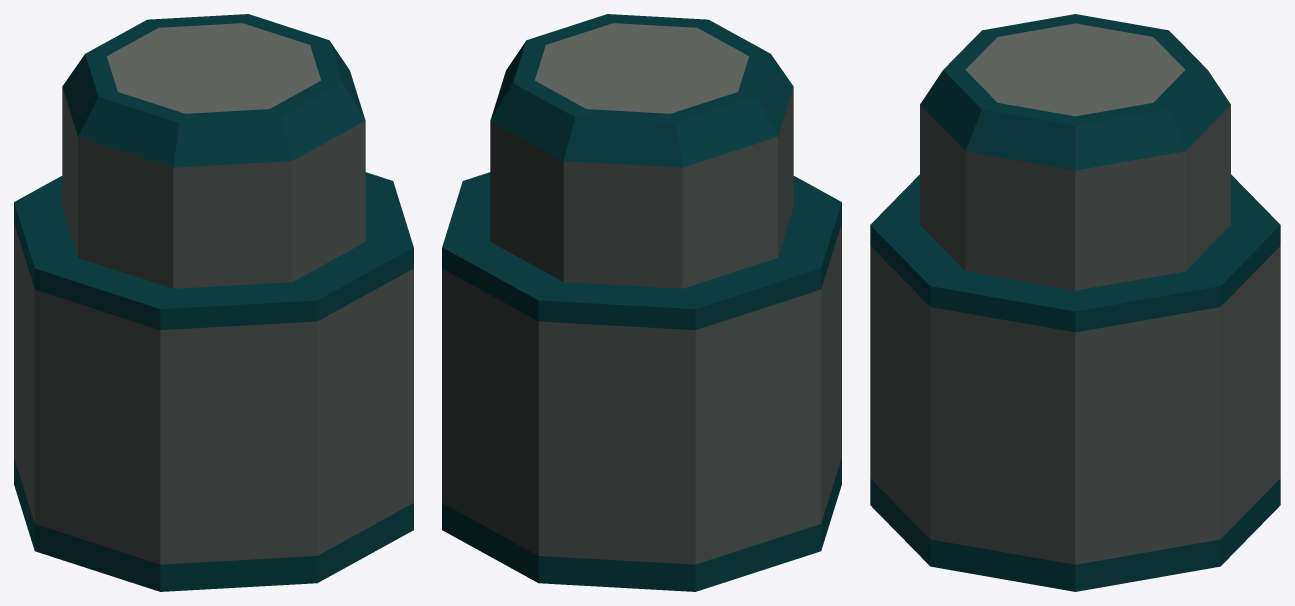
File: tower_socket.glb
The picture shows the model from 3 angles, left to right: view 1: azimuth 30°, elevation 25°; view 2: azimuth 150°, elevation 25°; view 3: azimuth 270°, elevation 25°; orthographic projection.
Parts seen in each view (by area): view 1: SubTower; view 2: SubTower; view 3: SubTower.
Part boxes in pixels (x1,y1,x2,y2): SubTower: (14,14,413,591); SubTower: (442,14,841,591); SubTower: (870,14,1280,591).
Bounding box in the file's own units: 1.12 × 1.31 × 1.12.
